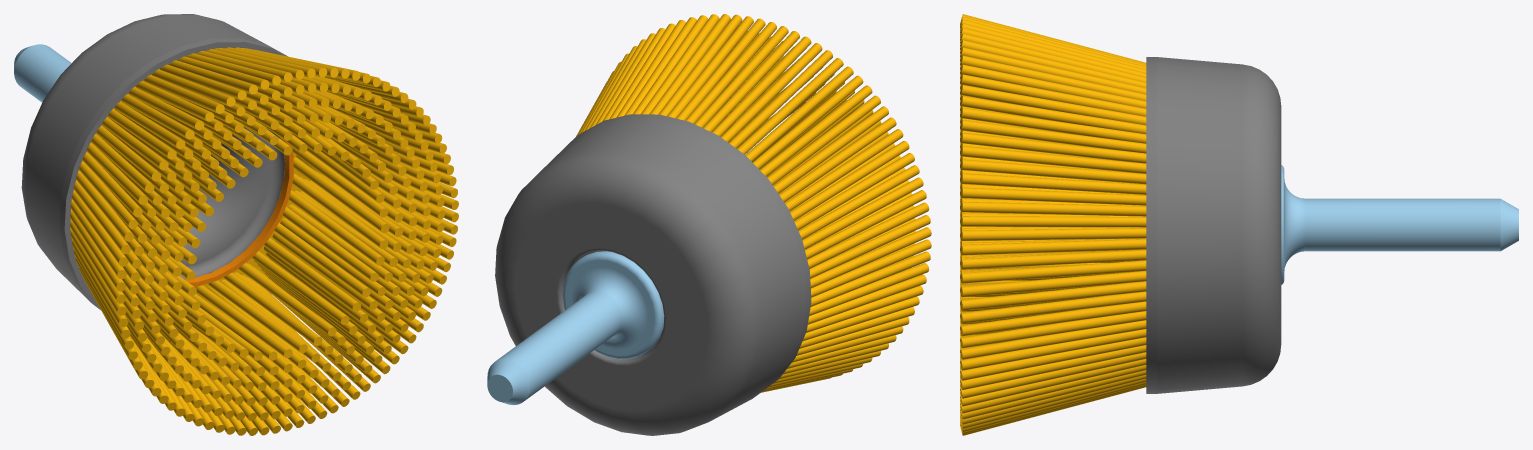
The model's file is brush.obj.
3 renders of one model, left to right at view 1: azimuth 30°, elevation 25°; view 2: azimuth 150°, elevation 25°; view 3: azimuth 270°, elevation 25°, orthographic. The views are drawn at different scales.
Parts seen in each view (by area): view 1: mesh1563, mesh1557, mesh1561, mesh1558, mesh1562, mesh6, mesh1564, mesh1277, mesh215, mesh254, mesh232, mesh1355 (+49 smaller); view 2: mesh1564, mesh1565, mesh1563, mesh6, mesh5, mesh1562, mesh3, mesh4, mesh1168, mesh1157, mesh1143, mesh1159 (+45 smaller); view 3: mesh1563, mesh1564, mesh6, mesh1562, mesh797, mesh788, mesh859, mesh846, mesh139, mesh204, mesh1273, mesh790 (+35 smaller).
Part boxes in pixels (x1,y1,x2,y2): mesh1563: [25, 15, 266, 302]; mesh1557: [180, 127, 271, 265]; mesh1561: [64, 42, 285, 309]; mesh1558: [179, 128, 284, 279]; mesh1562: [59, 38, 287, 306]; mesh6: [14, 44, 71, 102]; mesh1564: [21, 14, 220, 246]; mesh1277: [293, 157, 387, 231]; mesh215: [292, 174, 385, 247]; mesh254: [282, 206, 376, 280]; mesh232: [289, 190, 382, 264]; mesh1355: [223, 272, 319, 344]; mesh1564: [495, 153, 760, 435]; mesh1565: [514, 203, 707, 410]; mesh1563: [540, 117, 806, 421]; mesh6: [495, 292, 621, 400]; mesh5: [571, 266, 648, 349]; mesh1562: [576, 114, 811, 382]; mesh3: [562, 252, 662, 359]; mesh4: [565, 260, 654, 355]; mesh1168: [779, 117, 896, 202]; mesh1157: [773, 106, 888, 193]; mesh1143: [790, 141, 909, 220]; mesh1159: [785, 129, 903, 211]; mesh1563: [1156, 57, 1242, 393]; mesh1564: [1242, 64, 1281, 386]; mesh6: [1305, 198, 1500, 251]; mesh1562: [1146, 57, 1156, 393]; mesh797: [961, 159, 1146, 184]; mesh788: [961, 146, 1146, 173]; mesh859: [961, 281, 1146, 310]; mesh846: [961, 271, 1146, 297]; mesh139: [961, 132, 1146, 163]; mesh204: [961, 249, 1146, 269]; mesh1273: [961, 260, 1146, 283]; mesh790: [962, 216, 1146, 227].
Size of the model in its own units: 0.0507 by 0.0508 by 0.0672.
